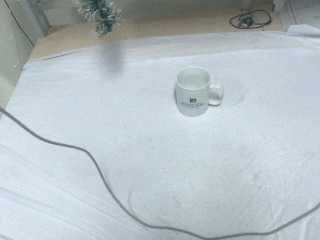cup: (174, 65, 226, 118)
